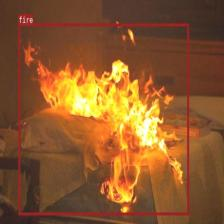fire: (18, 23, 189, 215)
